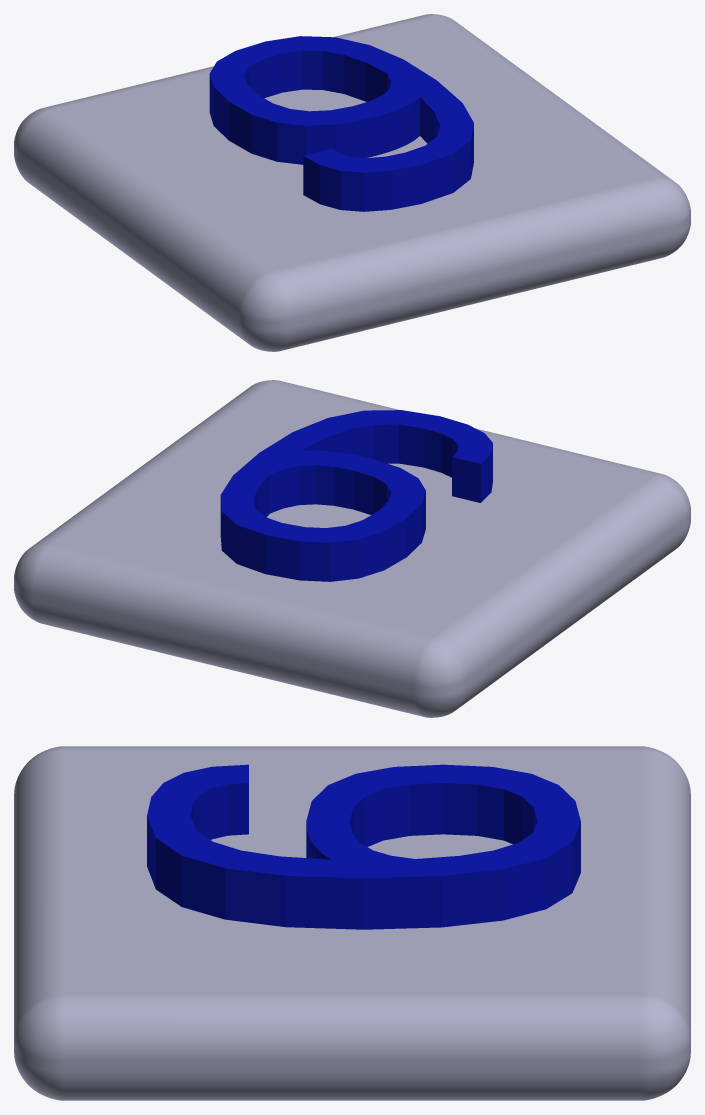
File: button9.glb
The picture shows the model from 3 angles, top to bottom: view 1: azimuth 30°, elevation 25°; view 2: azimuth 150°, elevation 25°; view 3: azimuth 270°, elevation 25°; orthographic projection. The views are drawn at different scales.
Parts seen in each view (by area): view 1: Box, 3D Text - 9; view 2: Box, 3D Text - 9; view 3: Box, 3D Text - 9.
Part boxes in pixels (x1,y1,x2,y2): Box: (14, 14, 690, 351); 3D Text - 9: (209, 36, 473, 211); Box: (14, 380, 690, 717); 3D Text - 9: (220, 410, 492, 581); Box: (14, 746, 690, 1100); 3D Text - 9: (147, 764, 580, 929).
Size of the model in its own units: 0.1 by 0.0249 by 0.1.
